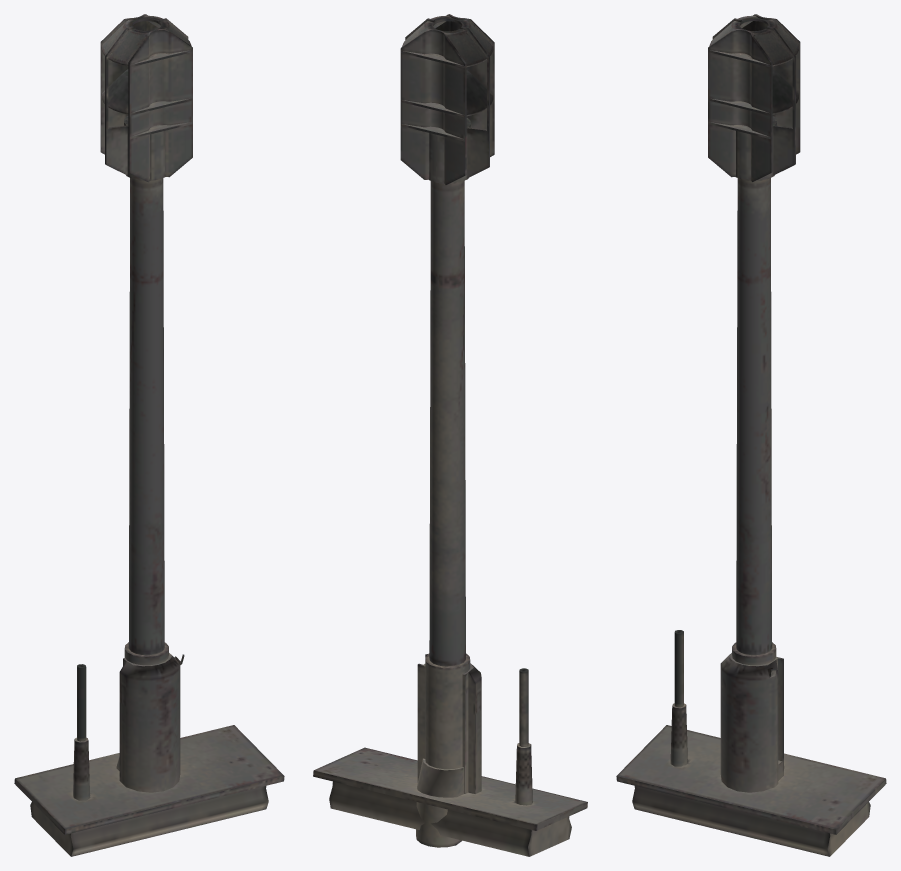
Rendered from Gun_01.glb.
The picture shows the model from 3 angles, left to right: view 1: azimuth 30°, elevation 25°; view 2: azimuth 150°, elevation 25°; view 3: azimuth 330°, elevation 25°; orthographic projection.
Visible parts, largest first — view 1: set_0_group_0; view 2: set_0_group_0; view 3: set_0_group_0.
Part boxes in pixels (left/top/right/bottom): set_0_group_0: left=14, top=14, right=284, bottom=856; set_0_group_0: left=313, top=14, right=587, bottom=856; set_0_group_0: left=616, top=14, right=886, bottom=856.
Size of the model in its own units: 0.7881 by 2.73 by 0.3163.
Materials: 1 (1 with a texture image).
